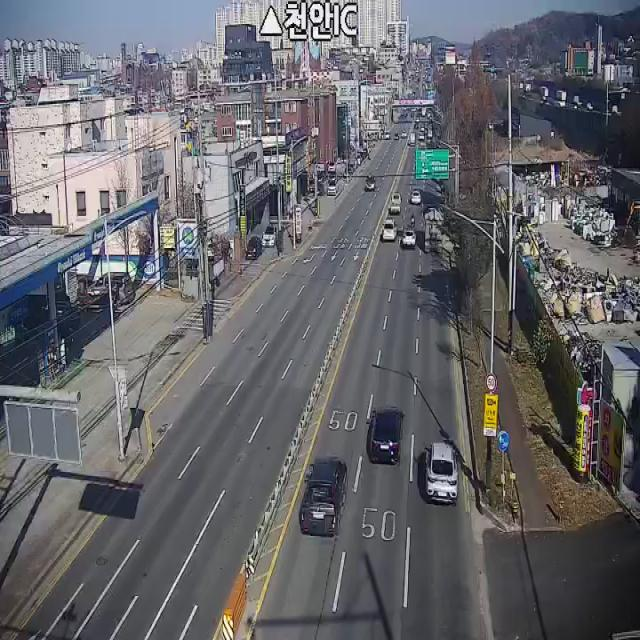Car: (299, 458, 347, 536), (425, 442, 458, 503), (370, 406, 402, 464), (85, 271, 134, 305), (246, 236, 262, 259), (262, 224, 278, 246), (383, 220, 397, 240), (401, 229, 416, 245), (391, 193, 401, 213), (328, 178, 338, 196), (365, 176, 375, 191), (411, 190, 421, 203)
Motorcycle: (411, 212, 415, 227)
